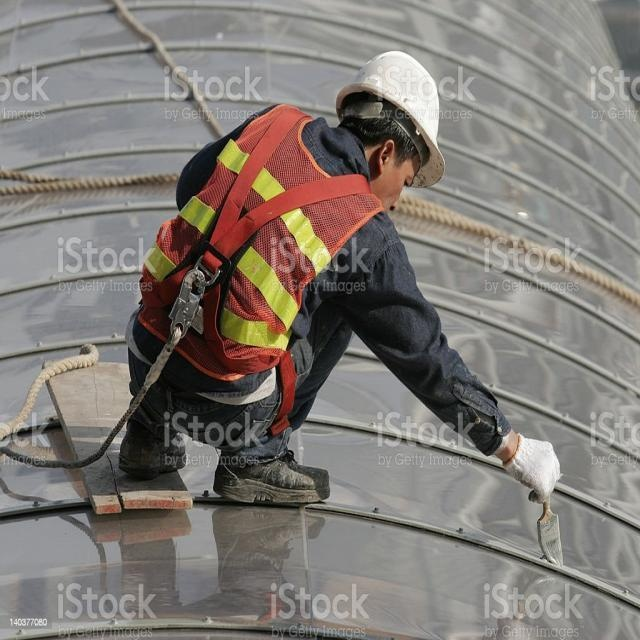Arnes_seguridad: (99, 104, 385, 455)
